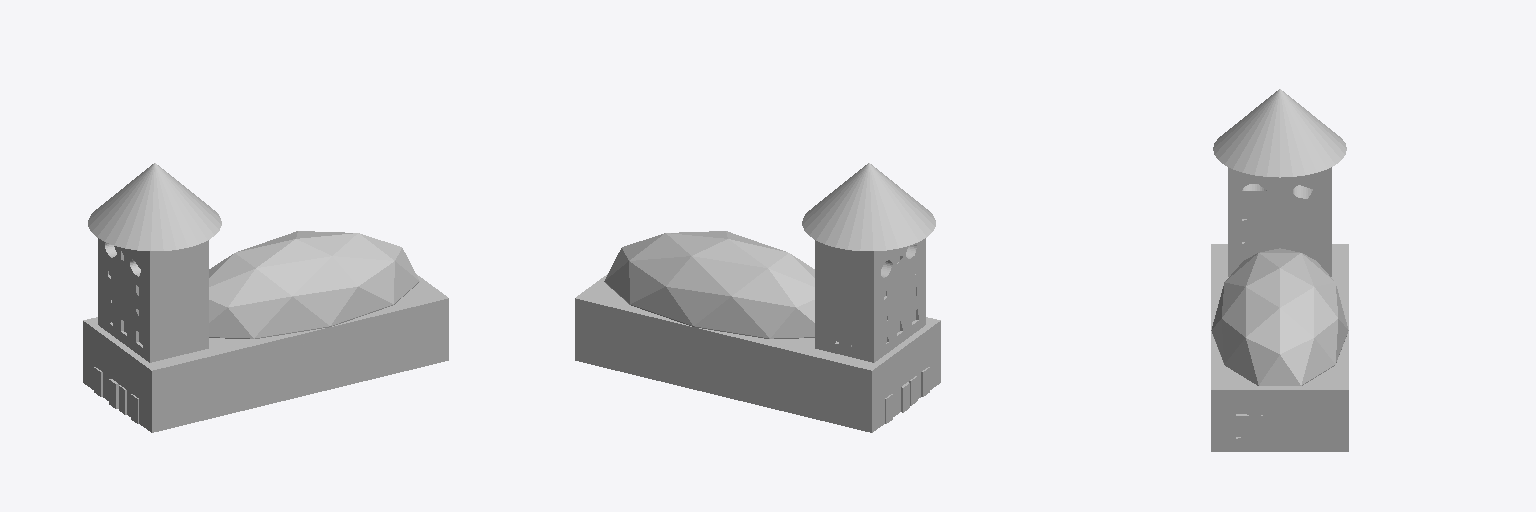
The model's file is Church 1.obj.
The picture shows the model from 3 angles: view 1: azimuth 30°, elevation 25°; view 2: azimuth 150°, elevation 25°; view 3: azimuth 270°, elevation 25°; orthographic projection.
Parts seen in each view (by area): view 1: Icosphere; view 2: Icosphere; view 3: Icosphere.
Part boxes in pixels (left/top/right/bottom): Icosphere: left=83, top=163, right=448, bottom=432; Icosphere: left=575, top=163, right=940, bottom=432; Icosphere: left=1211, top=89, right=1348, bottom=451.
Bounding box in the file's own units: 10.69 × 7.59 × 4.